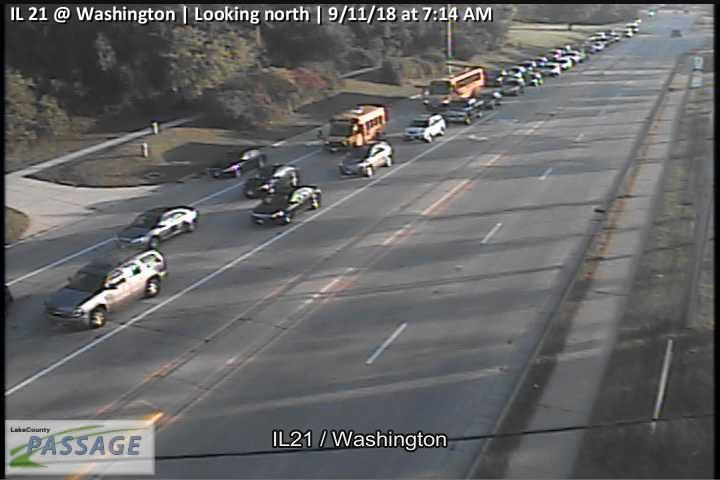Bus: (317, 103, 387, 153), (423, 64, 485, 110)
SUV: (44, 244, 167, 329), (336, 139, 393, 179), (243, 164, 301, 201), (402, 114, 444, 146), (442, 98, 483, 125), (561, 49, 584, 67), (500, 65, 525, 81), (539, 62, 560, 79)
Sedan: (119, 205, 199, 249), (249, 185, 323, 226), (209, 147, 267, 180), (478, 88, 500, 110), (500, 77, 524, 96), (524, 71, 543, 87), (555, 56, 571, 72)
